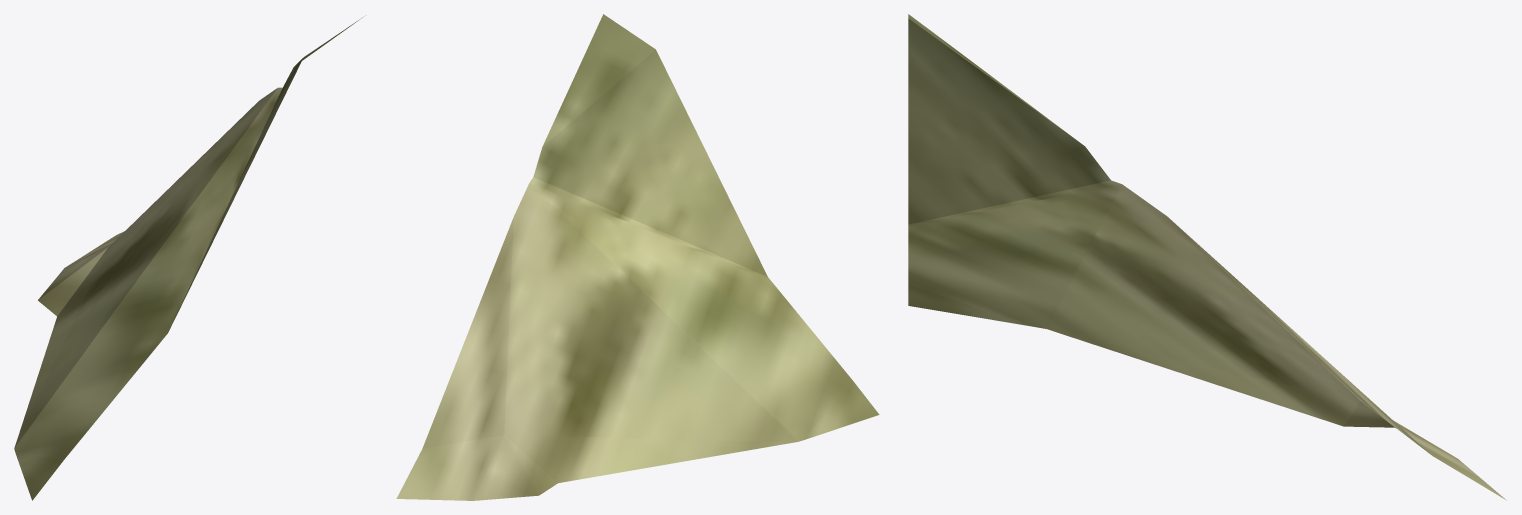
3 renders of one model, left to right at view 1: azimuth 30°, elevation 25°; view 2: azimuth 150°, elevation 25°; view 3: azimuth 270°, elevation 25°, orthographic. The views are drawn at different scales.
Size of the model in its own units: 0.5756 by 0.6639 by 0.747.
Materials: 1 (1 with a texture image).
